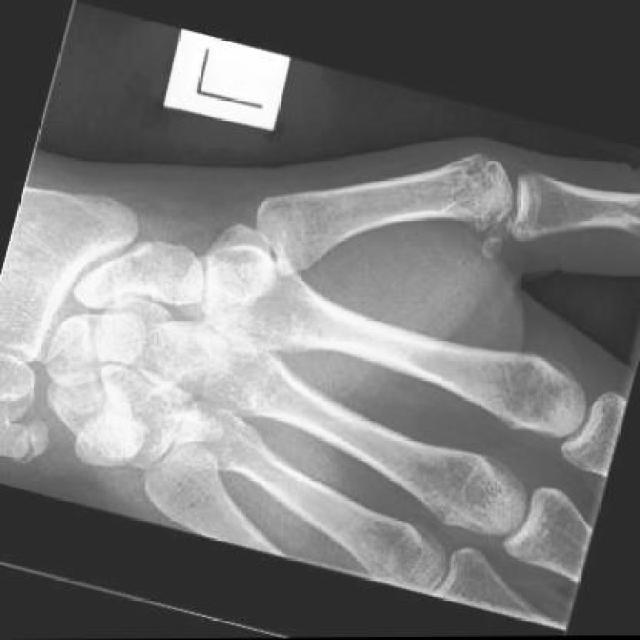Fracture: (86, 229, 157, 319)
